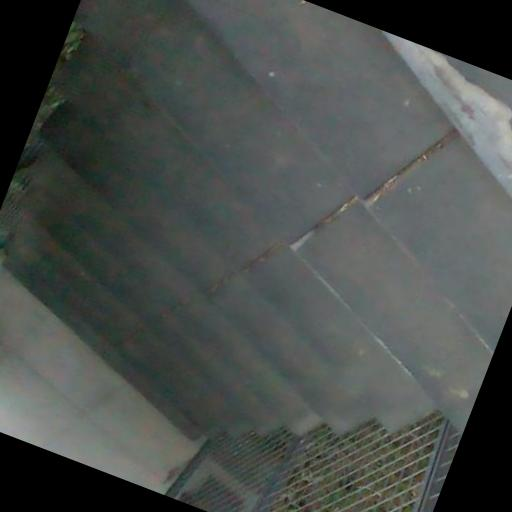stairs: (8, 0, 511, 436)
